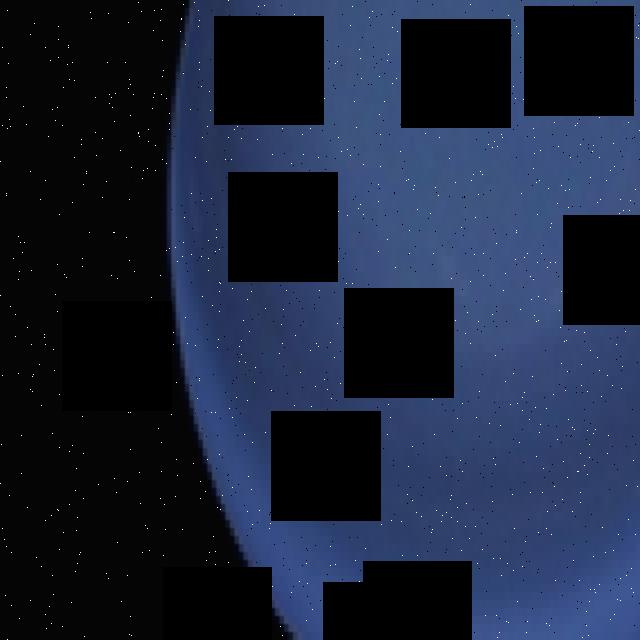Neptune: (172, 0, 640, 640)
